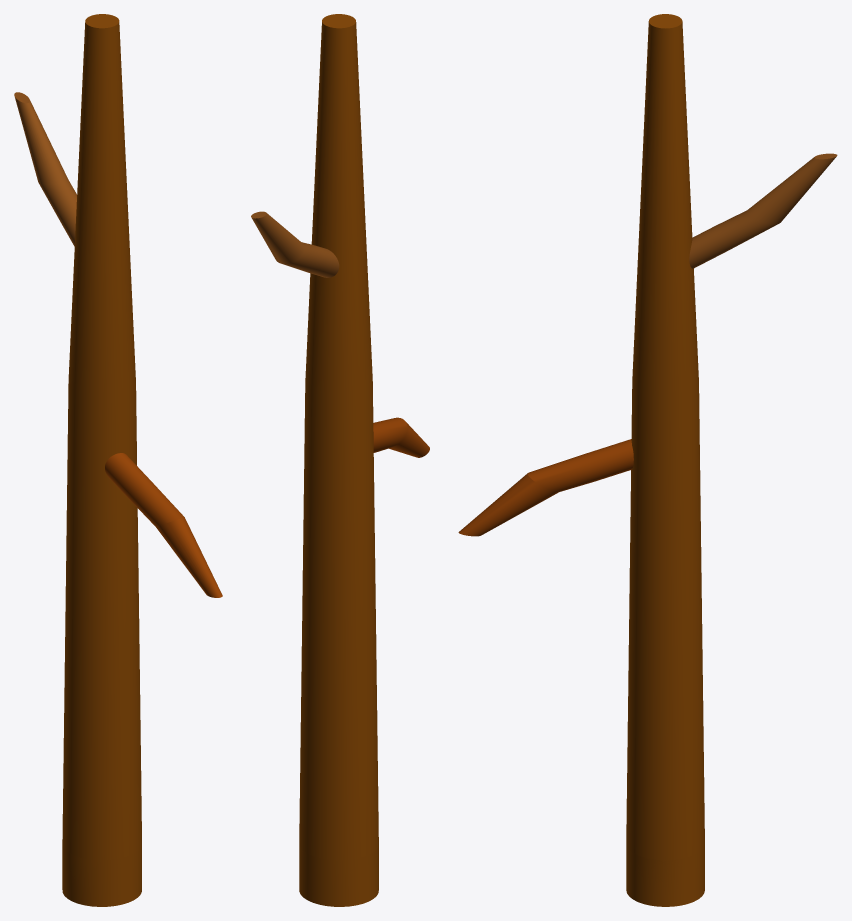
The model's file is stick for gtag fangame.fbx.
3 views of the same model, side by side, from view 1: azimuth 30°, elevation 25°; view 2: azimuth 150°, elevation 25°; view 3: azimuth 270°, elevation 25° (orthographic).
Visible parts, largest first — view 1: Cylinder.002; view 2: Cylinder.002; view 3: Cylinder.002.
Boxes of the visible parts, x1,y1,x2,y2 form: Cylinder.002: (14,14,222,906); Cylinder.002: (251,14,429,906); Cylinder.002: (458,14,837,906).
Bounding box in the file's own units: 48.22 × 576 × 228.
